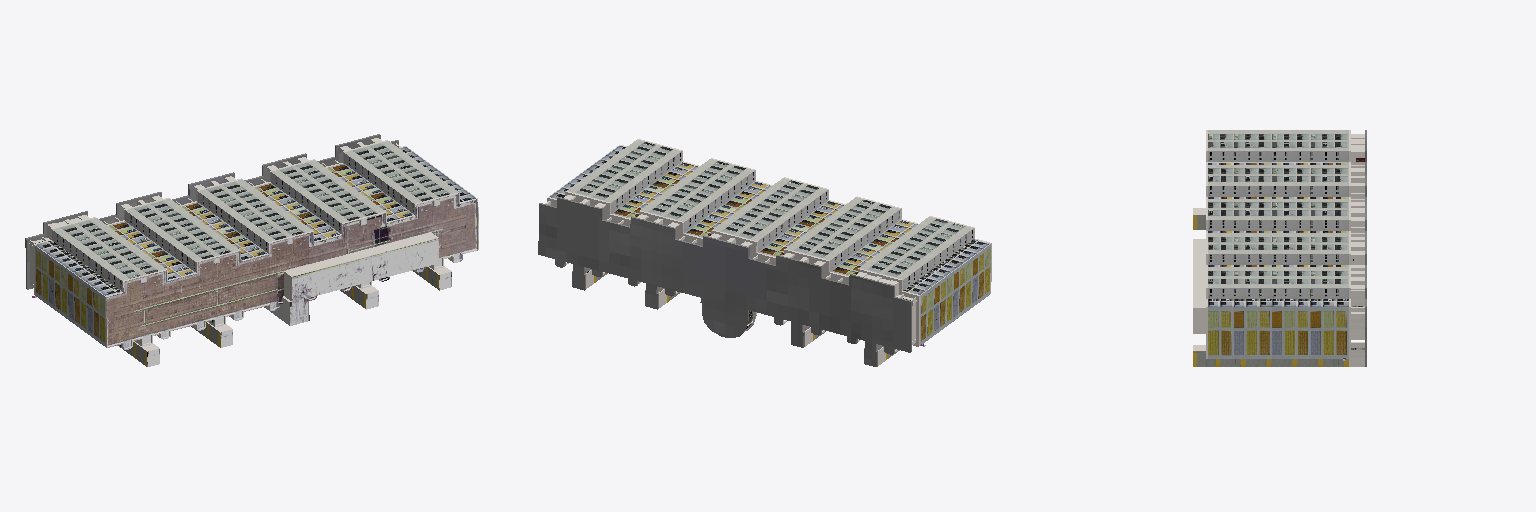
3 renders of one model, left to right at view 1: azimuth 30°, elevation 25°; view 2: azimuth 150°, elevation 25°; view 3: azimuth 270°, elevation 25°, orthographic.
Visible parts, largest first — view 1: polygon.796; view 2: polygon.796; view 3: polygon.796.
Part boxes in pixels (x1,y1,x2,y2): polygon.796: (25,134,478,366); polygon.796: (538,139,991,366); polygon.796: (1193,130,1366,366).
Bounding box in the file's own units: 93.71 × 23.27 × 37.24.
Materials: 1 (1 with a texture image).